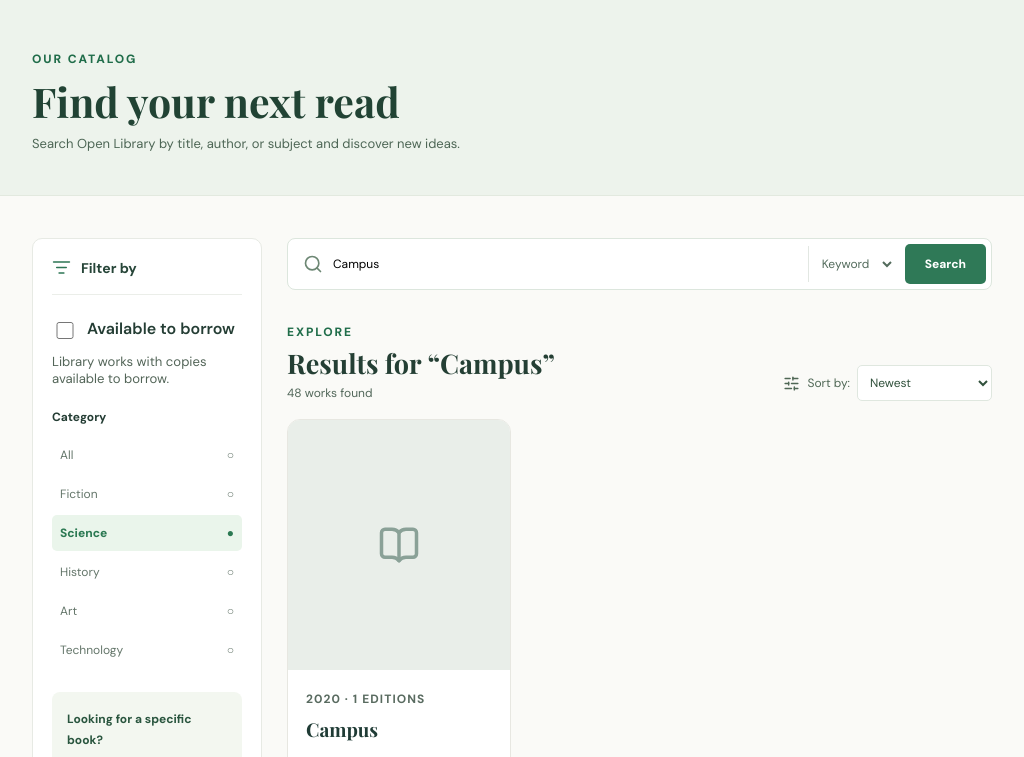
the filter restricts search before pagination, preserves other filters, and can be disabled
Click the checkbox labelled "Available to borrow" at point(65, 330), box [56, 322, 74, 339]
(page scrolled)
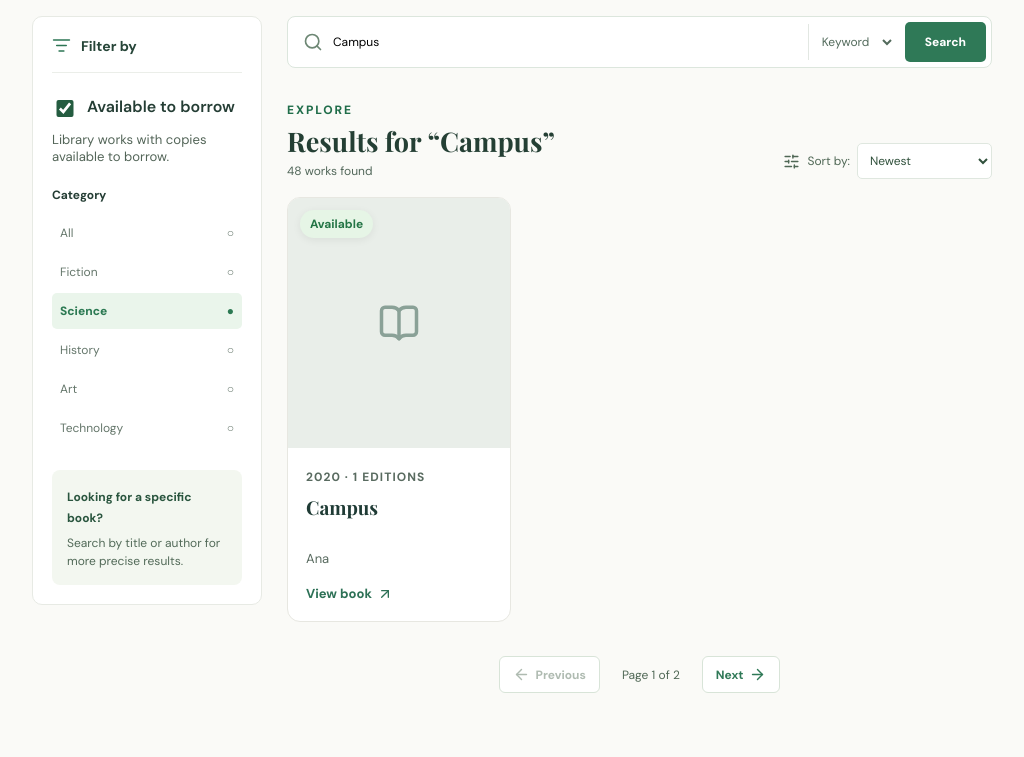
Result: the text "Page 1 of 2" is shown at [622, 667, 680, 683]
Result: the text "Available" is shown at [300, 210, 373, 238]
Click the button "Next" at point(741, 675), box [702, 656, 780, 693]
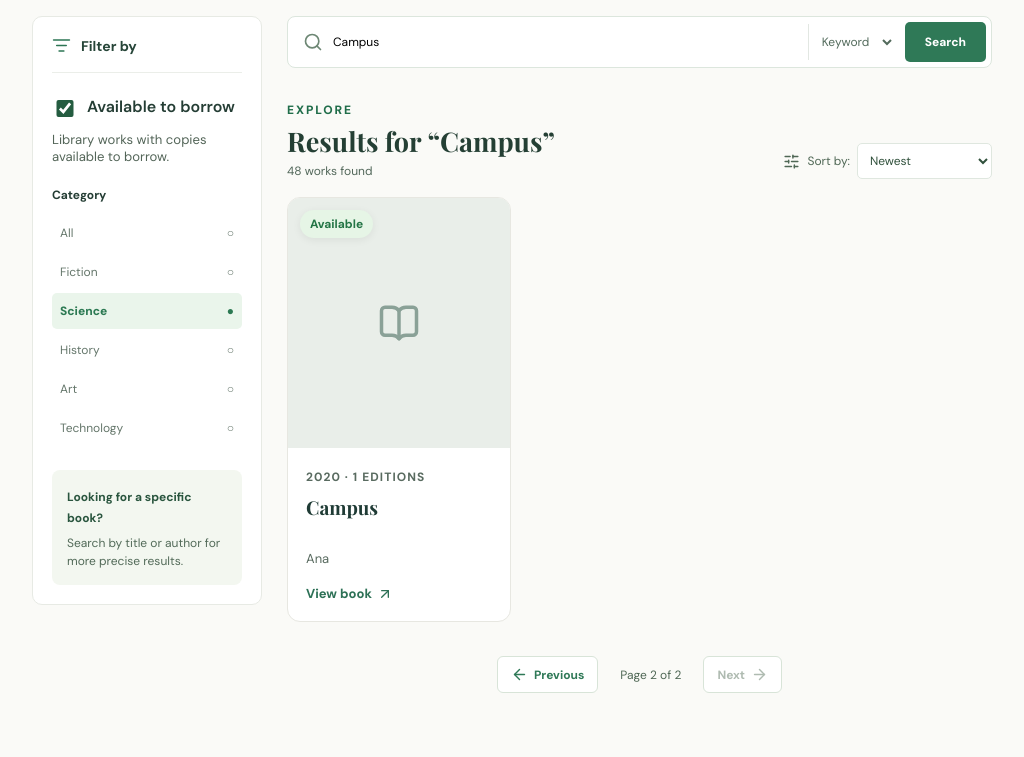
Result: the text "Page 2 of 2" is shown at [620, 667, 681, 683]
Click the checkbox labelled "Available to borrow" at point(65, 108), box [56, 100, 74, 117]
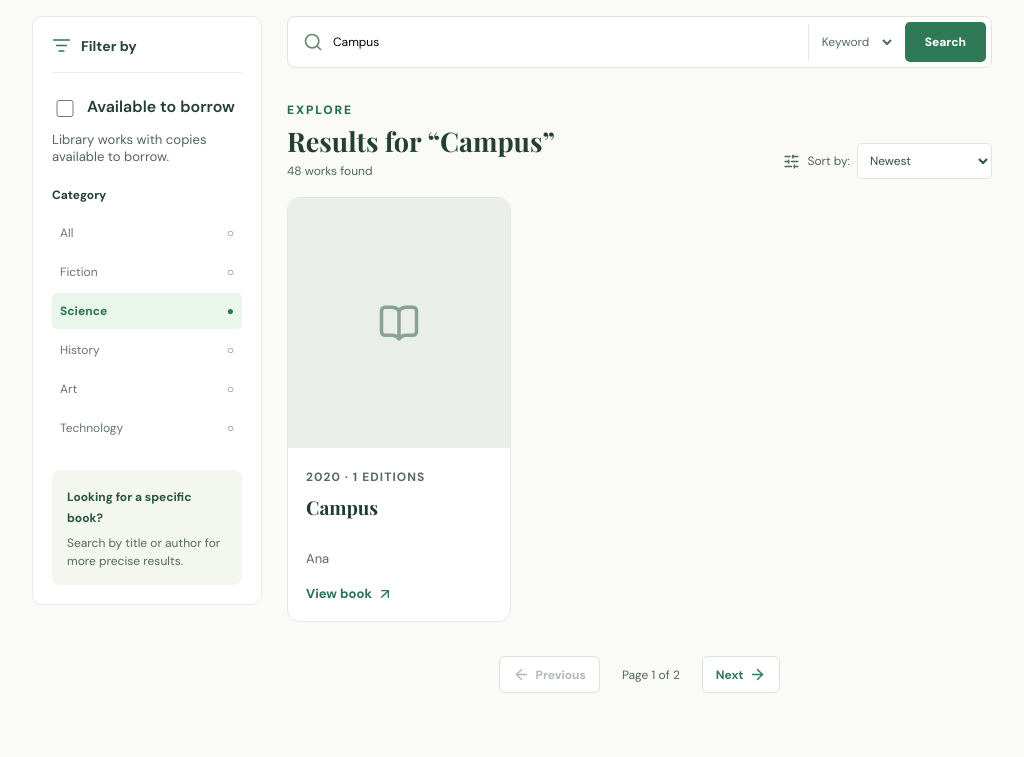
Result: the text "Page 1 of 2" is shown at [622, 667, 680, 683]
